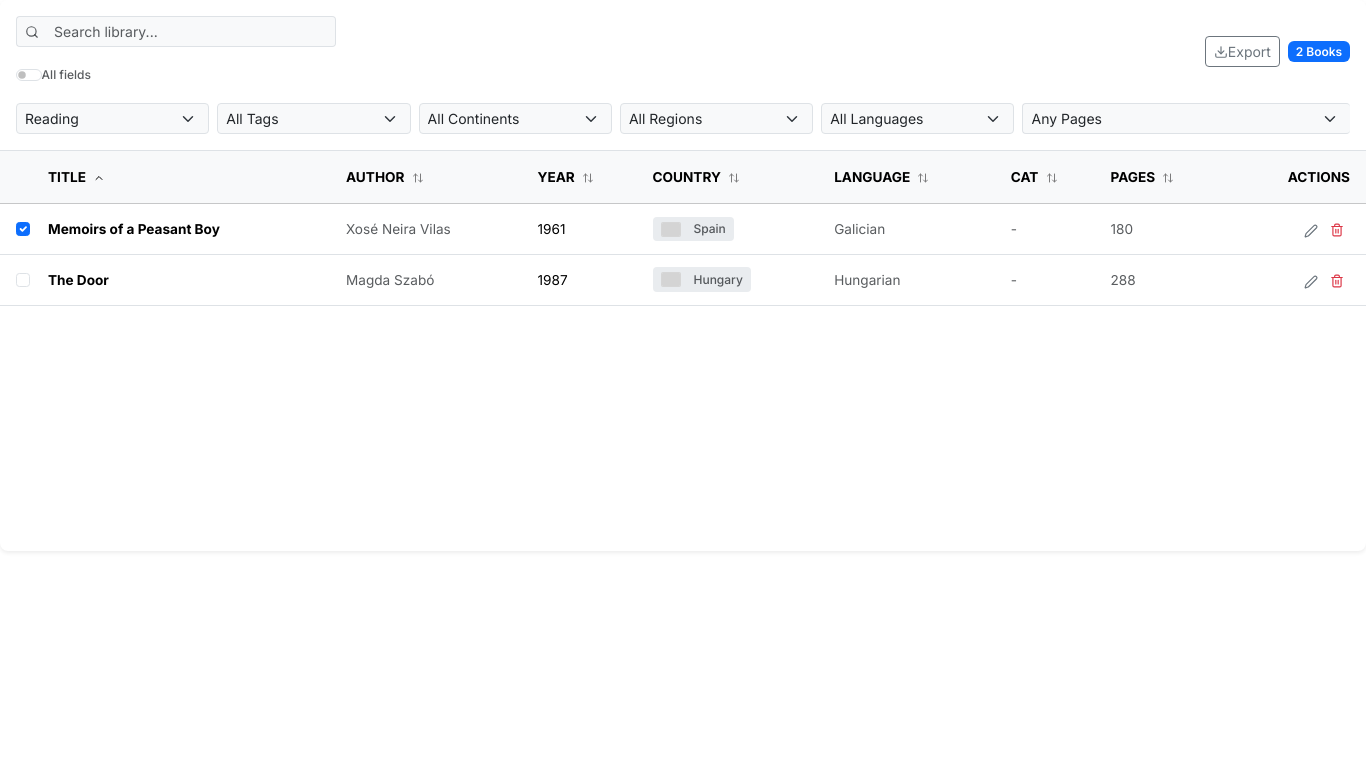
Test: BookTable Component tests › closes export dropdown when clicking outside
The image size is (1366, 768).
Click the button titled "Export". click: (1242, 52)
box: 1205,36 -> 1280,67
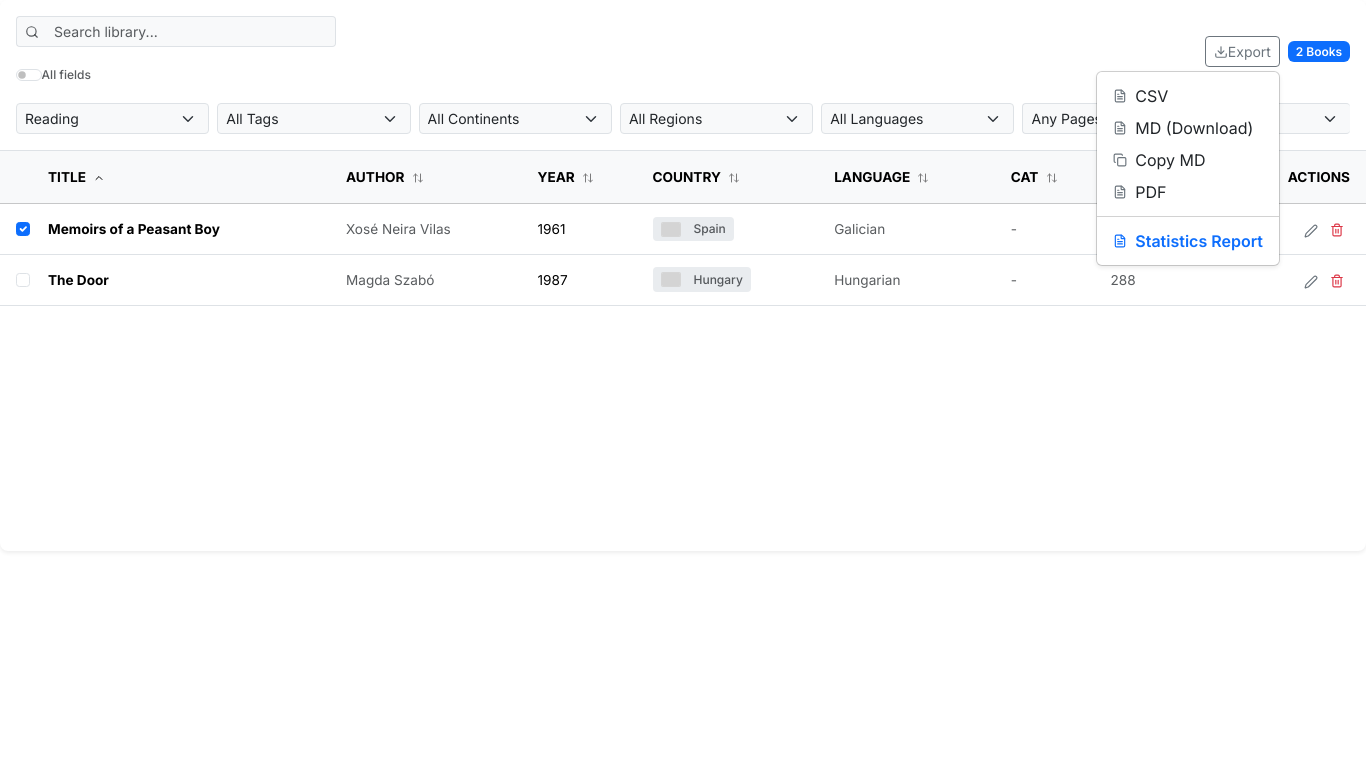
Expected: the text "CSV" is shown, 1135,84 -> 1168,108
Press the mouse on the element that starts with "All fields" at (683, 384), box 0,0 -> 1365,767
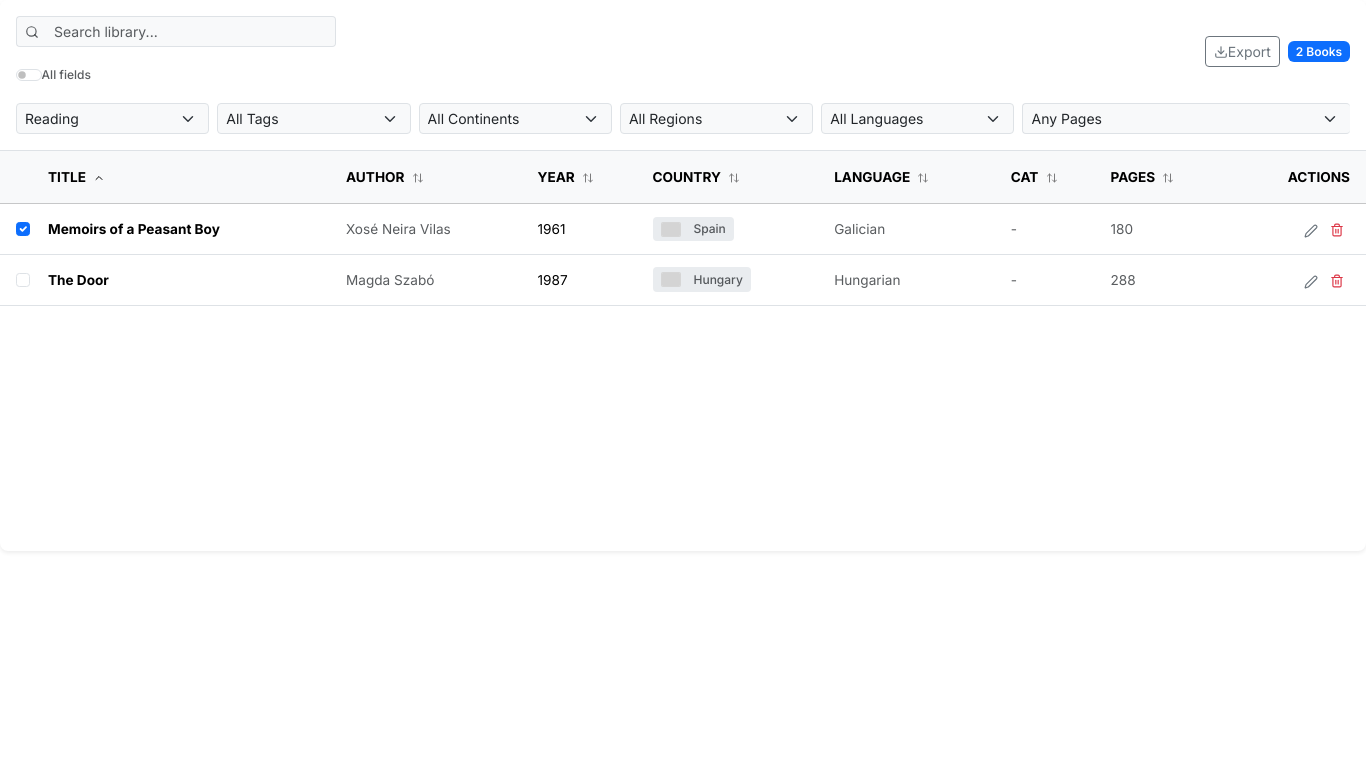
Expected: the button "CSV" is gone
